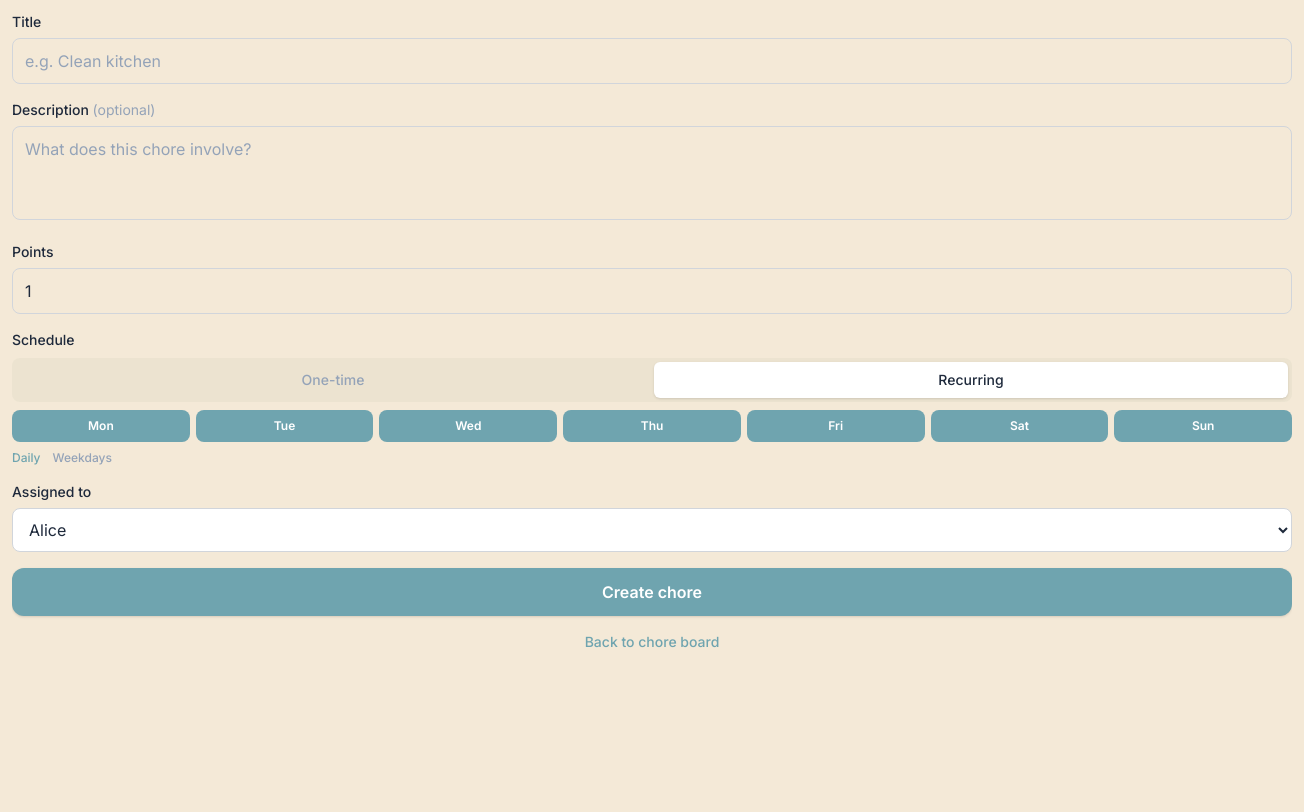
Test case: CreateChoreForm › switches to one-time mode and shows date picker
The image size is (1304, 812).
Click the button "One-time": [333, 380] box [16,362,650,398]
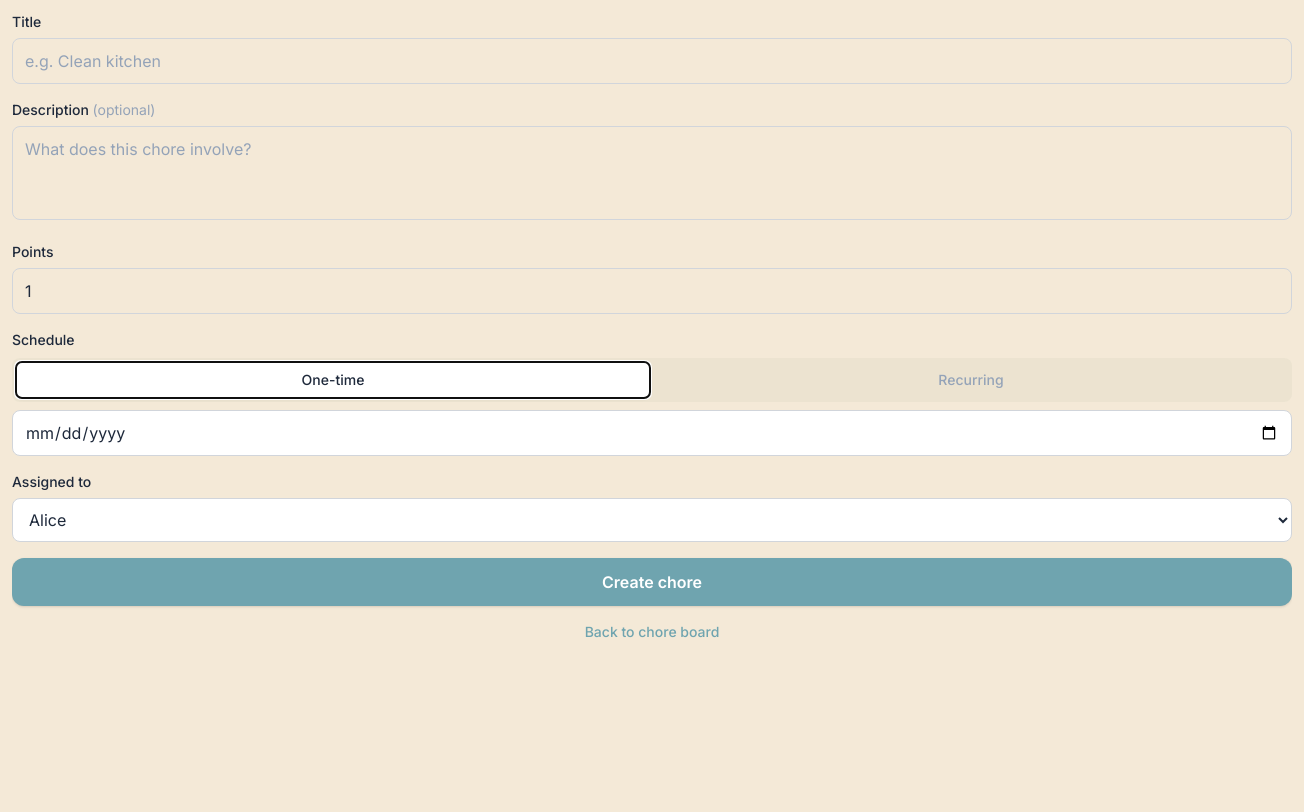
Expected: the button "Daily" is gone
Expected: the button "Weekdays" is gone
Expected: the date field is shown, [12,410,1292,456]
